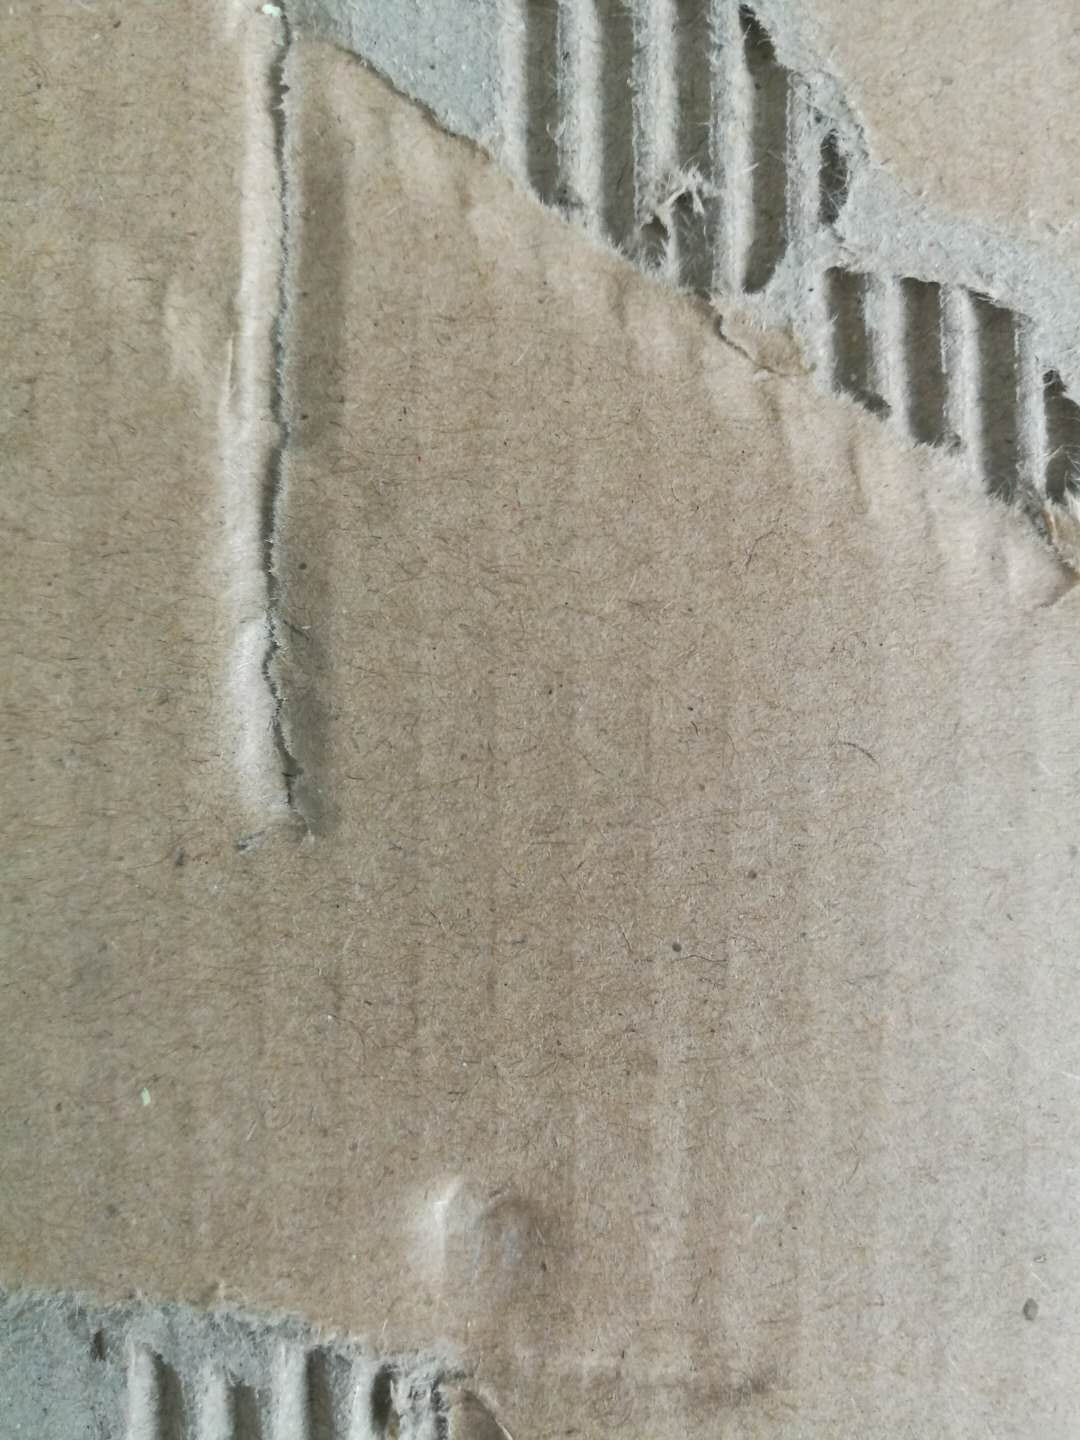defect: (92, 5, 1080, 866), (2, 1268, 532, 1440), (500, 1307, 826, 1430), (414, 1155, 639, 1324)
